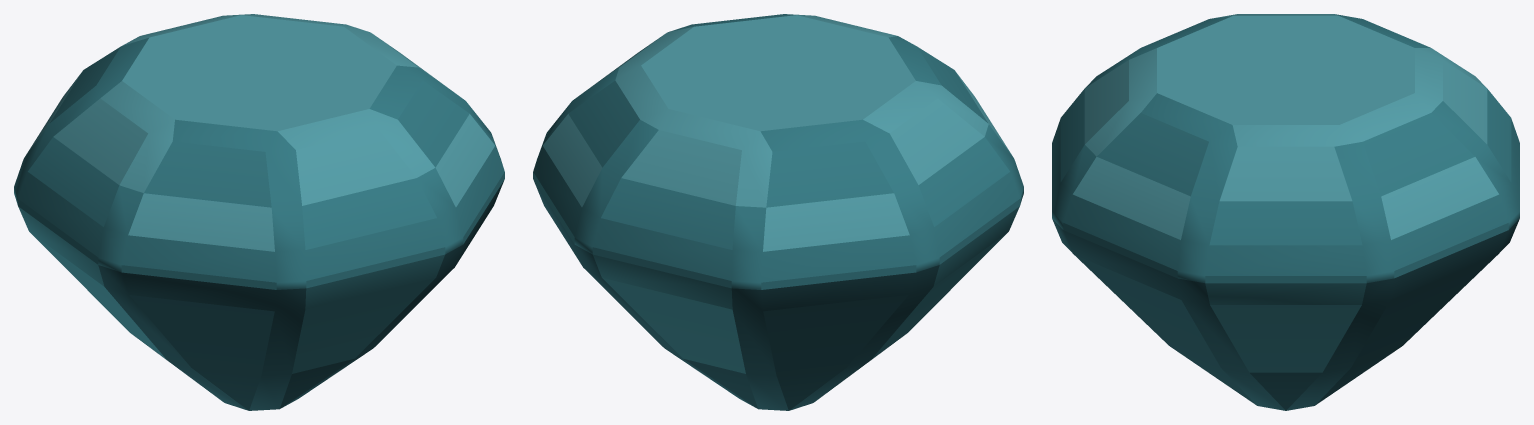
Rendered from Gem_39.glb.
The picture shows the model from 3 angles, left to right: view 1: azimuth 30°, elevation 25°; view 2: azimuth 150°, elevation 25°; view 3: azimuth 270°, elevation 25°; orthographic projection.
Visible parts, largest first — view 1: Gem_39; view 2: Gem_39; view 3: Gem_39.
Part boxes in pixels (bbox=[...]): Gem_39: bbox=[14, 14, 504, 410]; Gem_39: bbox=[533, 14, 1023, 410]; Gem_39: bbox=[1052, 14, 1519, 410].
Bounding box in the file's own units: 0.8684 × 0.6621 × 0.8684.
